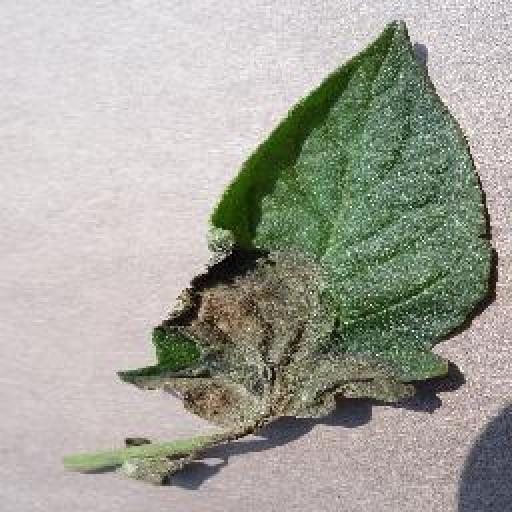disease_tomato: (112, 13, 496, 432)
